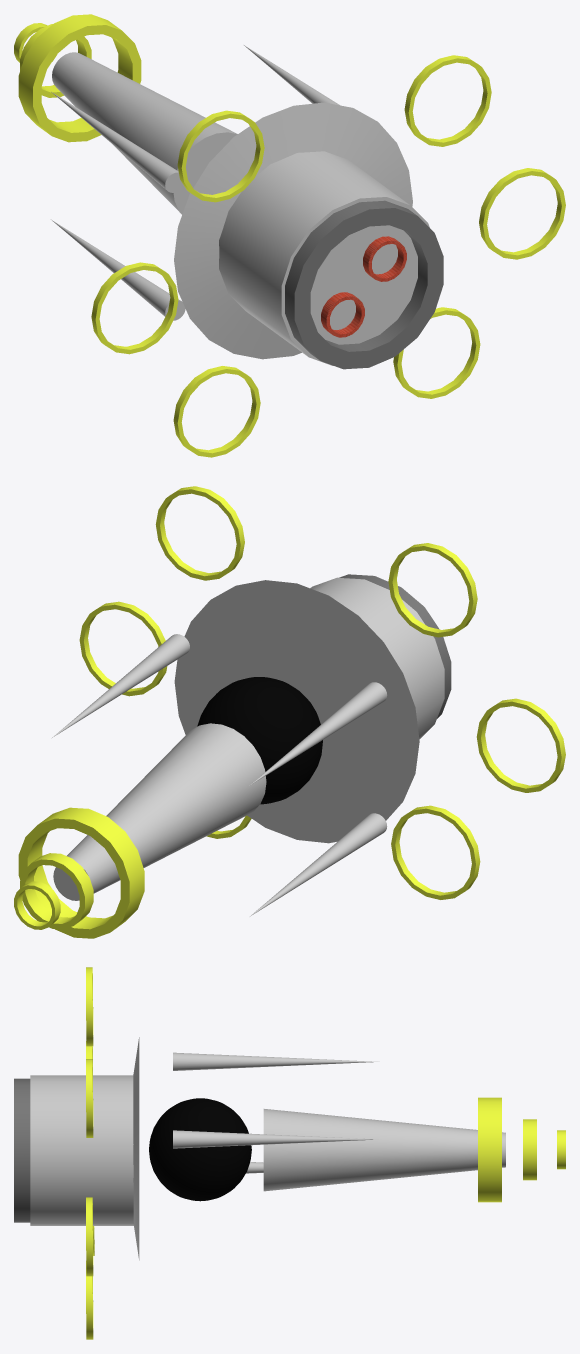
File: Ship.FBX
3 views of the same model, one above another, from view 1: azimuth 30°, elevation 25°; view 2: azimuth 150°, elevation 25°; view 3: azimuth 270°, elevation 25° (orthographic). The views are drawn at different scales.
Parts seen in each view (by area): view 1: Cylinder001, Cone001, Tube011, Cone002, Tube012, Tube005, Tube016, Tube007, Tube017, Tube018, Cone003, Cone005 (+5 smaller); view 2: Cone001, Cone002, Sphere001, Cylinder001, Tube012, Tube013, Tube017, Tube007, Tube005, Tube016, Cone004, Cone005 (+4 smaller); view 3: Cylinder001, Cone002, Sphere001, Tube012, Tube011, Cone003, Cone004, Cone001, Tube013, Tube016, Tube018, Tube005 (+1 smaller).
Part boxes in pixels (bbox=[...]): Cylinder001: bbox=[219, 151, 429, 365]; Cone001: bbox=[174, 102, 412, 359]; Tube011: bbox=[285, 200, 443, 369]; Cone002: bbox=[52, 52, 237, 214]; Tube012: bbox=[18, 14, 141, 142]; Tube005: bbox=[404, 55, 491, 146]; Tube016: bbox=[177, 110, 264, 202]; Tube007: bbox=[173, 366, 260, 457]; Tube017: bbox=[91, 262, 178, 354]; Tube018: bbox=[479, 168, 565, 259]; Cone003: bbox=[51, 92, 183, 192]; Cone005: bbox=[51, 219, 185, 320]; Cone001: bbox=[174, 580, 419, 843]; Cone002: bbox=[53, 723, 266, 900]; Sphere001: bbox=[197, 677, 322, 804]; Cylinder001: bbox=[310, 577, 444, 739]; Tube012: bbox=[18, 807, 144, 938]; Tube013: bbox=[20, 853, 93, 929]; Tube017: bbox=[476, 698, 565, 792]; Tube007: bbox=[391, 805, 480, 899]; Tube005: bbox=[155, 486, 244, 580]; Tube016: bbox=[388, 543, 477, 637]; Cone004: bbox=[52, 634, 189, 737]; Cone005: bbox=[249, 813, 387, 916]; Cylinder001: bbox=[30, 1075, 133, 1225]; Cone002: bbox=[263, 1109, 505, 1191]; Sphere001: bbox=[149, 1098, 251, 1201]; Tube012: bbox=[478, 1097, 501, 1202]; Tube011: bbox=[14, 1078, 30, 1222]; Cone003: bbox=[173, 1052, 379, 1070]; Cone004: bbox=[173, 1130, 379, 1148]; Cone001: bbox=[133, 1037, 139, 1260]; Tube013: bbox=[523, 1119, 536, 1180]; Tube016: bbox=[86, 967, 93, 1046]; Tube018: bbox=[86, 1197, 93, 1276]; Tube005: bbox=[86, 1059, 93, 1137].
Bounding box in the file's own units: 2665 × 1843 × 3273.
